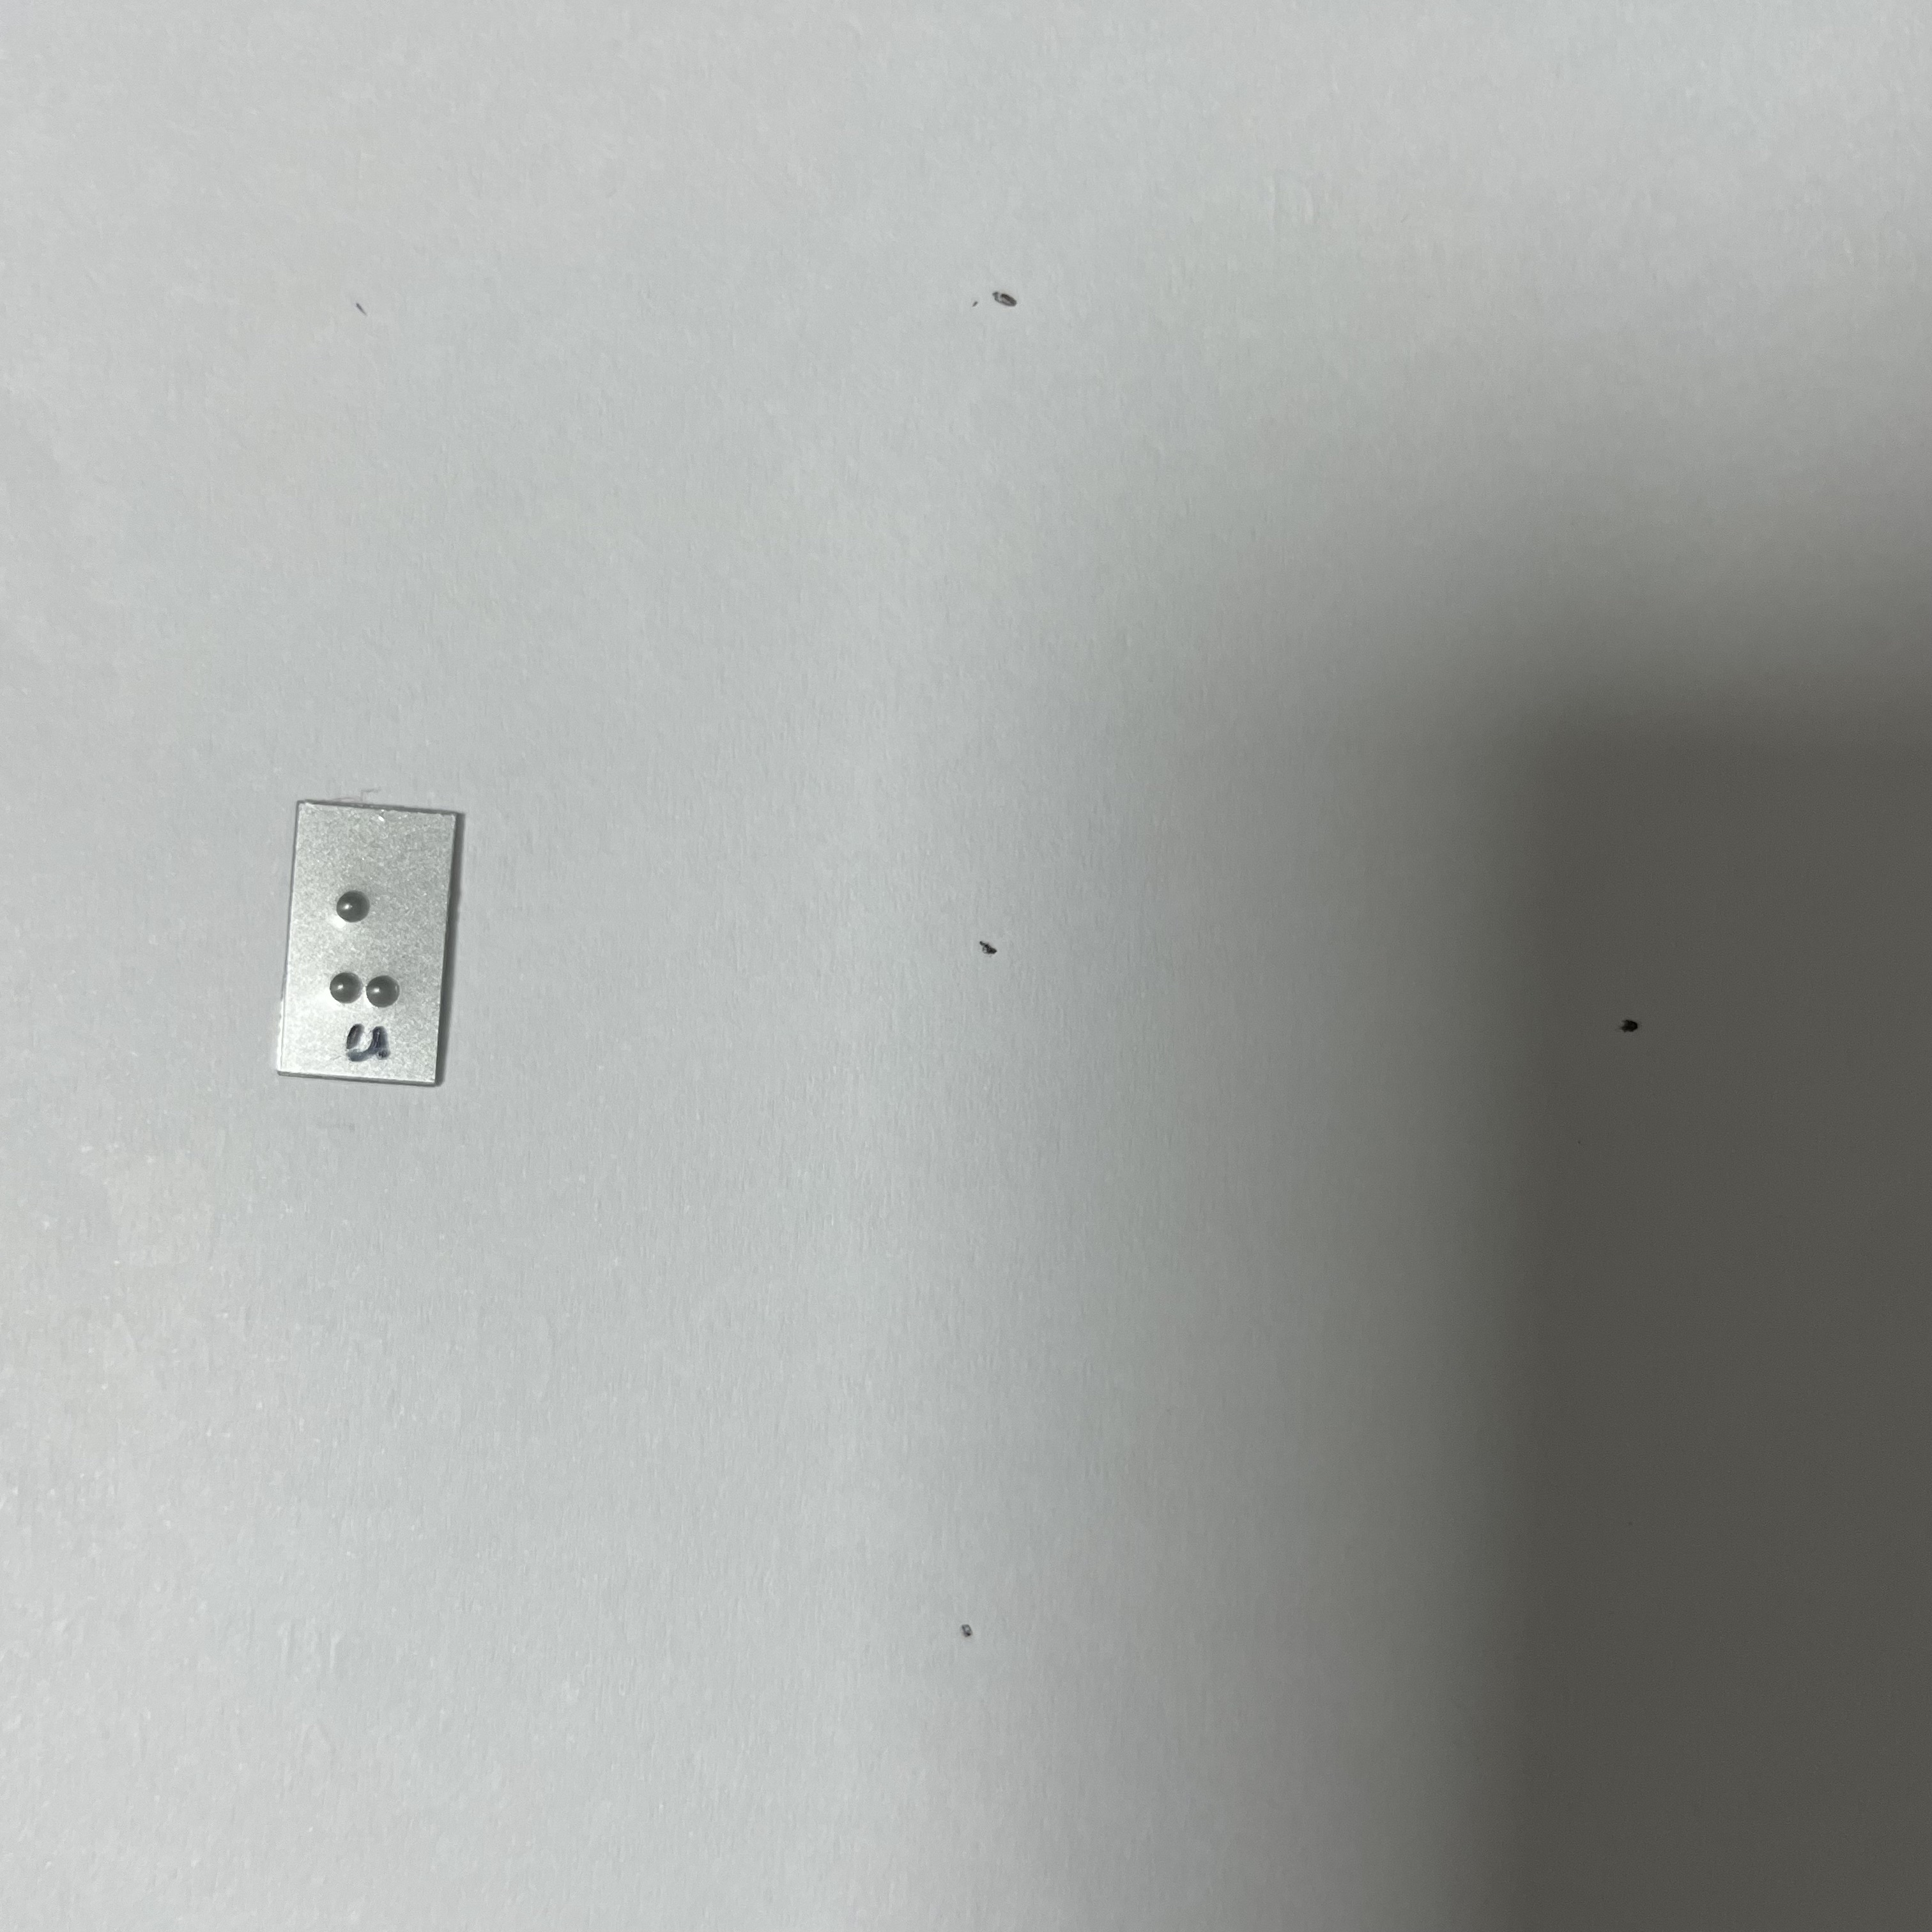u: (326, 873, 412, 1018)
